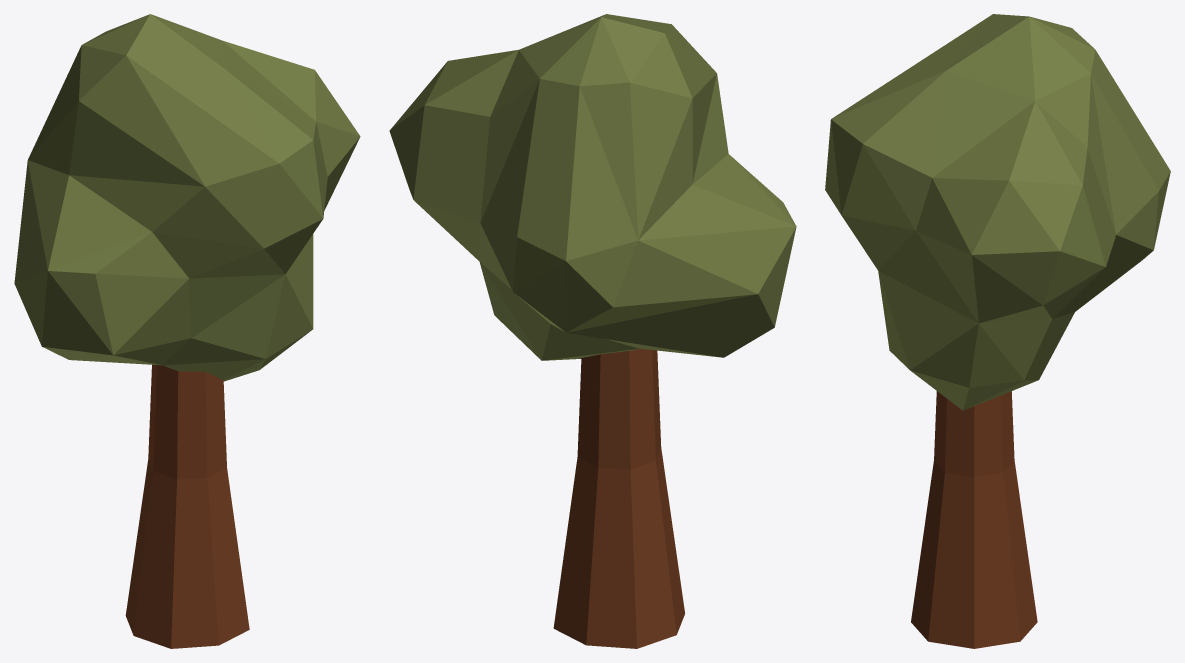
Rendered from tree2.fbx.
The picture shows the model from 3 angles, left to right: view 1: azimuth 30°, elevation 25°; view 2: azimuth 150°, elevation 25°; view 3: azimuth 270°, elevation 25°; orthographic projection. The views are drawn at different scales.
Parts seen in each view (by area): view 1: Cube.002; view 2: Cube.002; view 3: Cube.002.
Boxes of the visible parts, x1,y1,x2,y2 form: Cube.002: (14,14,360,648); Cube.002: (389,14,796,648); Cube.002: (825,14,1170,648).
Size of the model in its own units: 583 by 1006 by 525.
